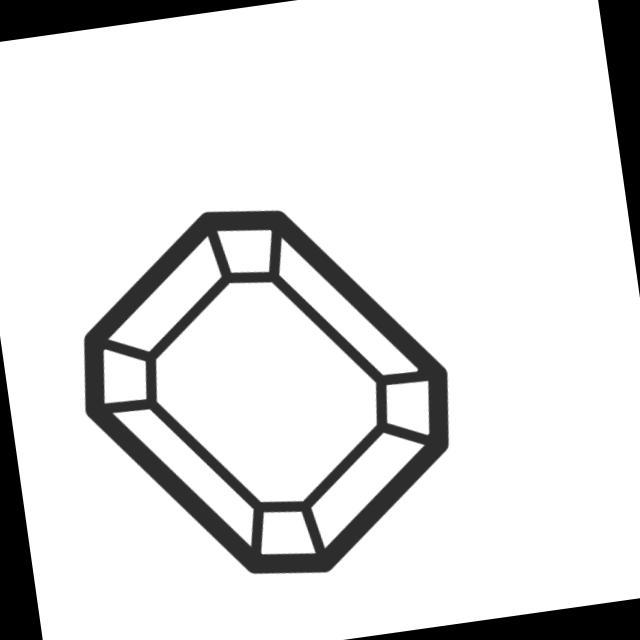emerald: (49, 174, 483, 612)
